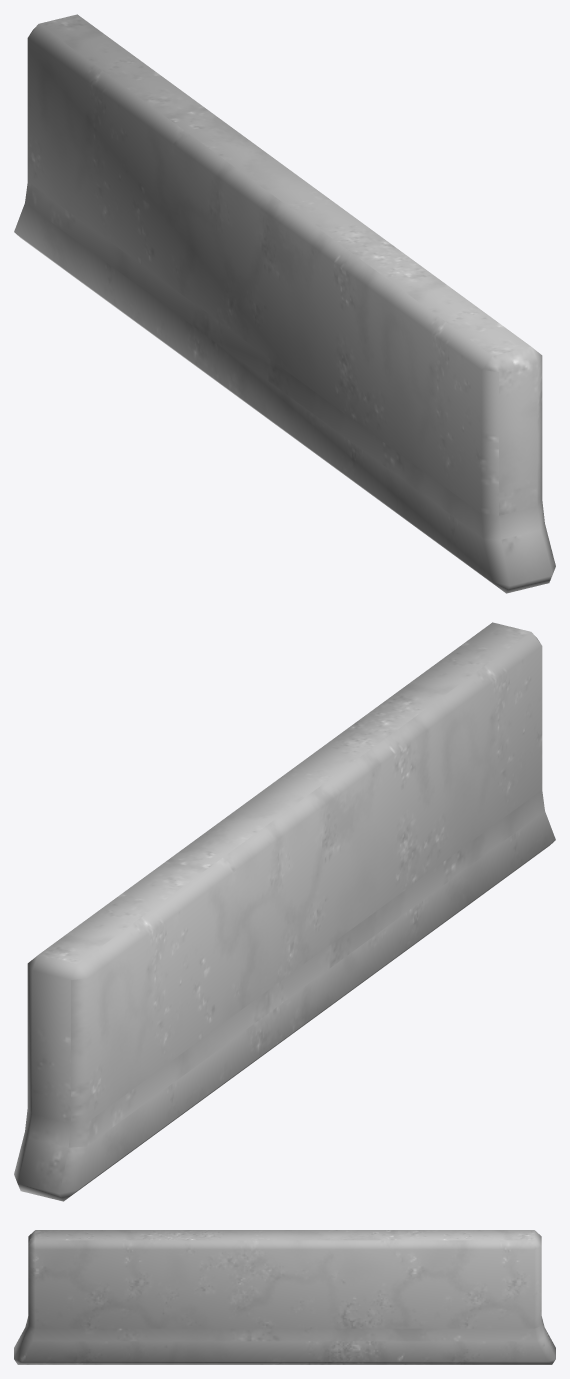
File: NEW BARRiCADE.fbx
3 views of the same model, one above another, from view 1: azimuth 30°, elevation 25°; view 2: azimuth 150°, elevation 25°; view 3: azimuth 270°, elevation 25° (orthographic). The views are drawn at different scales.
Visible parts, largest first — view 1: Cube; view 2: Cube; view 3: Cube.
Part boxes in pixels (x1,y1,x2,y2): Cube: (14, 14, 555, 593); Cube: (14, 622, 555, 1201); Cube: (14, 1230, 555, 1364).
Bounding box in the file's own units: 61.17 × 206 × 816.
